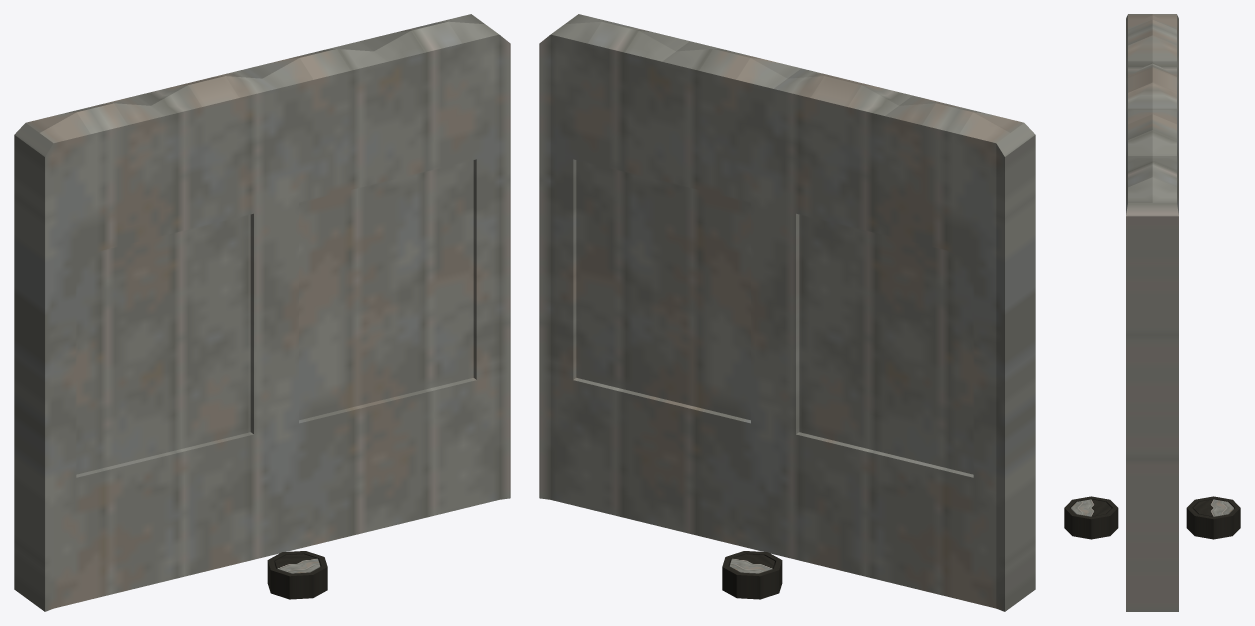
The model's file is WallPlatform.fbx.
3 views of the same model, side by side, from view 1: azimuth 30°, elevation 25°; view 2: azimuth 150°, elevation 25°; view 3: azimuth 270°, elevation 25° (orthographic). The views are drawn at different scales.
Visible parts, largest first — view 1: Gate, ChannelPanelBase, ChannelPanel; view 2: Gate, ChannelPanelBase, ChannelPanel; view 3: Gate, ChannelPanelBase, ChannelPanel.
Boxes of the visible parts, x1=… form: Gate: x1=14, y1=14, x2=510, y2=611; ChannelPanelBase: x1=267, y1=551, x2=327, y2=599; ChannelPanel: x1=275, y1=554, x2=320, y2=573; Gate: x1=539, y1=14, x2=1035, y2=611; ChannelPanelBase: x1=722, y1=551, x2=782, y2=599; ChannelPanel: x1=729, y1=554, x2=774, y2=573; Gate: x1=1126, y1=14, x2=1178, y2=611; ChannelPanelBase: x1=1064, y1=496, x2=1240, y2=539; ChannelPanel: x1=1071, y1=499, x2=1233, y2=516.
Size of the model in its own units: 418 by 424 by 158.
